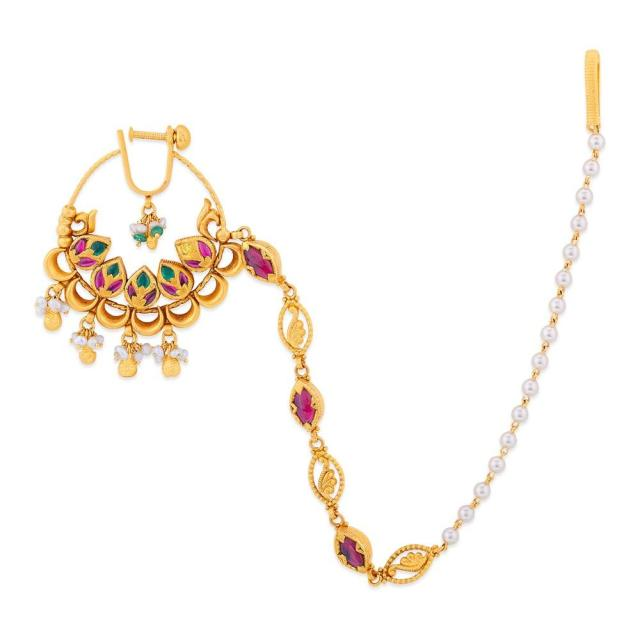missing gem: (177, 243, 194, 256)
